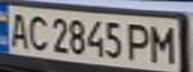2: (45, 15, 69, 54)
4: (84, 17, 106, 57)
5: (103, 18, 127, 60)
8: (66, 16, 87, 56)
A: (3, 9, 33, 48)
C: (24, 11, 51, 52)
M: (148, 21, 181, 64)
P: (124, 20, 154, 62)
